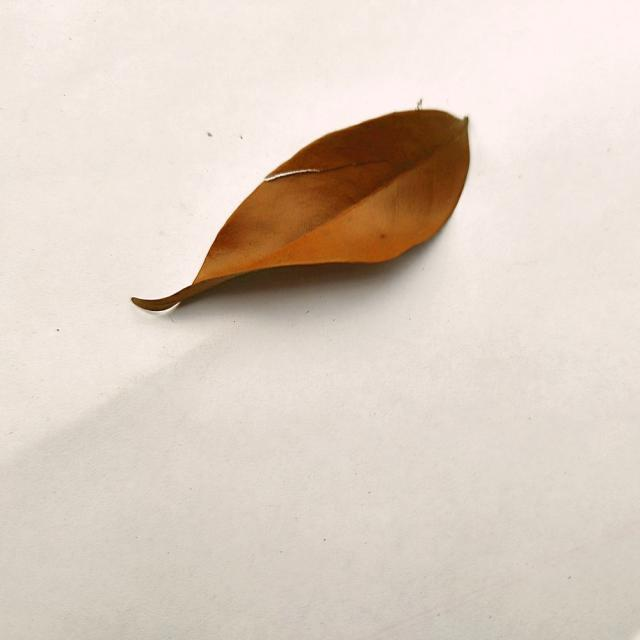Dry_Leaf-Lychee: (131, 108, 472, 315)
